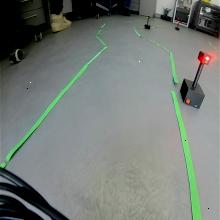red: (197, 50, 212, 66)
